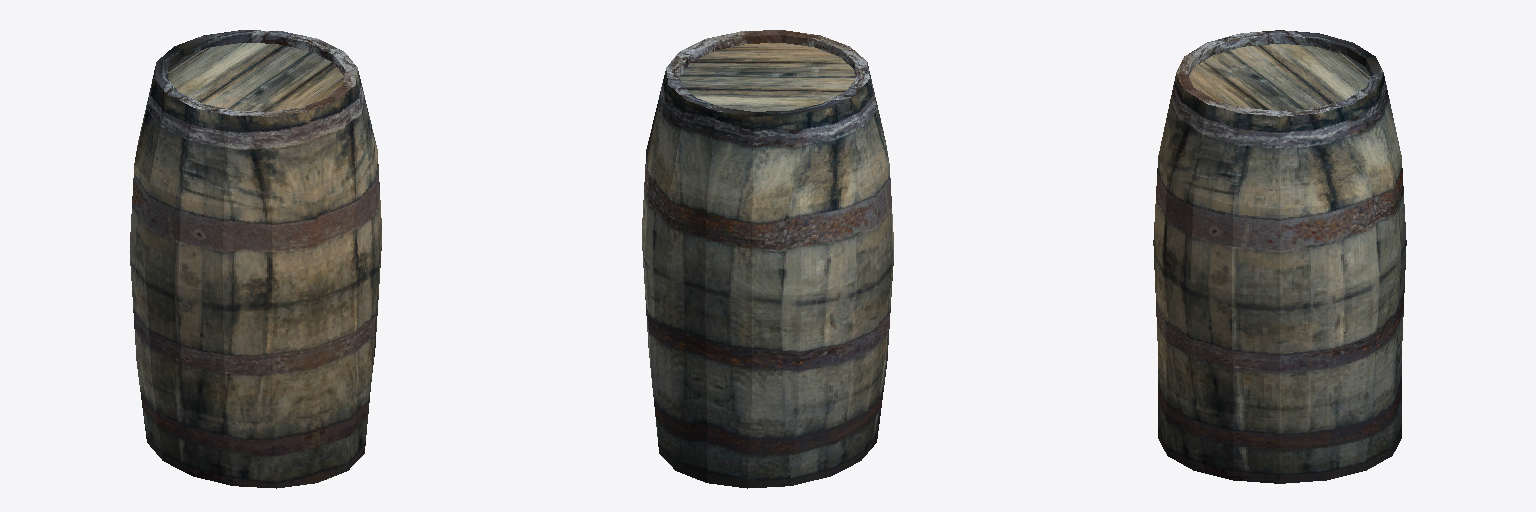
The picture shows the model from 3 angles: view 1: azimuth 30°, elevation 25°; view 2: azimuth 150°, elevation 25°; view 3: azimuth 270°, elevation 25°; orthographic projection.
Parts seen in each view (by area): view 1: bltool; view 2: bltool; view 3: bltool.
Boxes of the visible parts, <box> form: bltool: <box>130,30,381,488</box>; bltool: <box>642,30,893,488</box>; bltool: <box>1153,30,1406,483</box>.
Bounding box in the file's own units: 23.88 × 37.66 × 23.67.
1 materials, 1 textured.